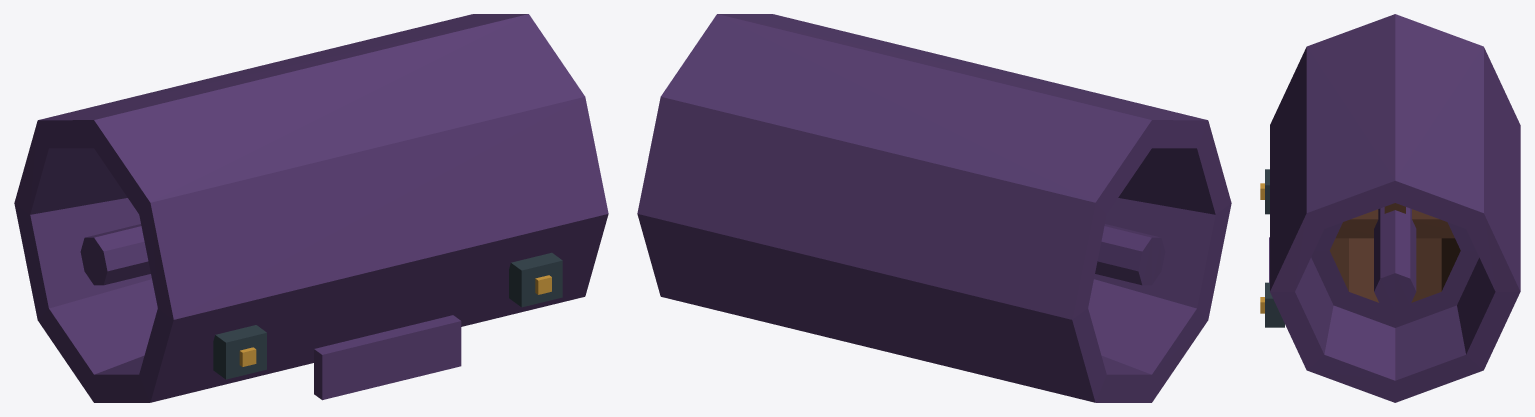
File: quay-cart-lilac.glb
3 renders of one model, left to right at view 1: azimuth 30°, elevation 25°; view 2: azimuth 150°, elevation 25°; view 3: azimuth 270°, elevation 25°, orthographic. The views are drawn at different scales.
Parts seen in each view (by area): view 1: quay-cart-lilac; view 2: quay-cart-lilac; view 3: quay-cart-lilac.
Boxes of the visible parts, <box> form: quay-cart-lilac: <box>14,14,608,402</box>; quay-cart-lilac: <box>637,14,1231,402</box>; quay-cart-lilac: <box>1260,14,1520,402</box>.
Bounding box in the file's own units: 1.48 × 0.92 × 0.9757.
